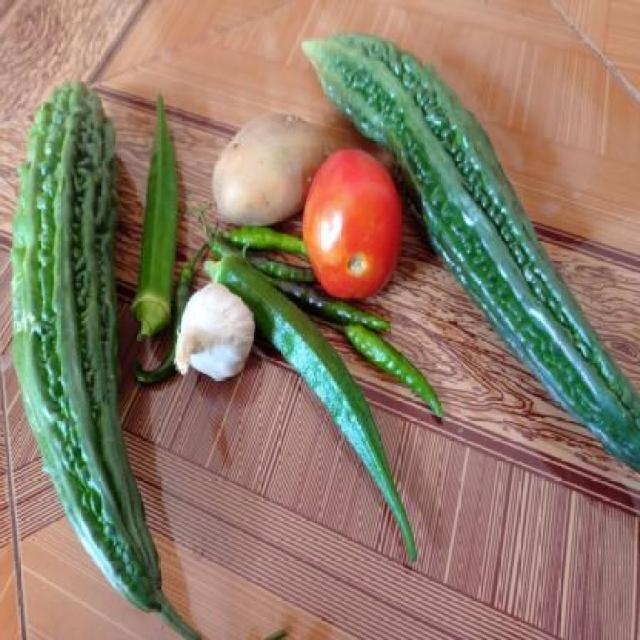Bitter melon: (3, 59, 148, 636)
Garlic: (168, 286, 258, 391)
Green Chili: (336, 298, 462, 428)
Lady finger: (132, 74, 183, 342)
Potato: (198, 108, 324, 226)
Tomato: (297, 150, 406, 292)
